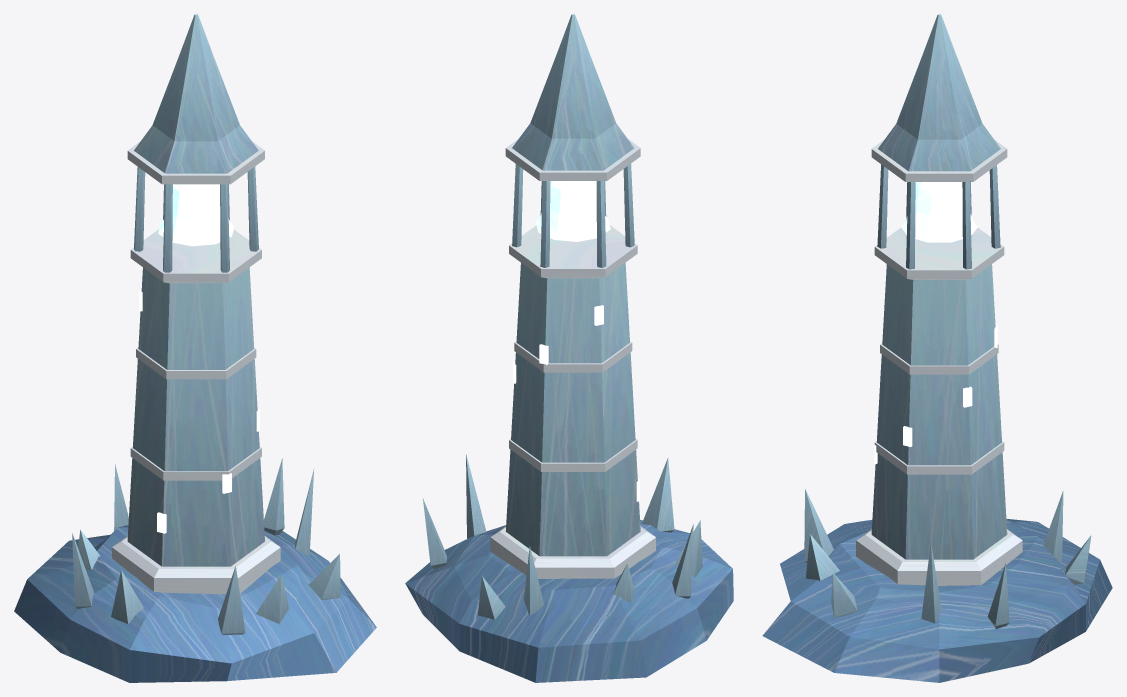
The model's file is AT_GlacierBell.fbx.
3 views of the same model, side by side, from view 1: azimuth 30°, elevation 25°; view 2: azimuth 150°, elevation 25°; view 3: azimuth 270°, elevation 25° (orthographic).
Parts seen in each view (by area): view 1: Shaft, IceBase, Spire, Plinth, BelfryFloor, Bell, BelfryRoofRim, FrostBand0, FrostBand1, IceSpike2, IceSpike1, IceSpike6 (+9 smaller); view 2: Shaft, IceBase, Spire, Plinth, BelfryFloor, Bell, BelfryRoofRim, FrostBand0, IceSpike2, FrostBand1, IceSpike5, IceSpike0 (+8 smaller); view 3: Shaft, IceBase, Spire, Plinth, BelfryFloor, Bell, BelfryRoofRim, FrostBand0, FrostBand1, IceSpike2, IceSpike5, IceSpike3 (+8 smaller).
Part boxes in pixels (box(x1,y1,x2,y2)): Shaft: box(127, 267, 264, 566); IceBase: box(14, 525, 376, 682); Spire: box(134, 14, 258, 173); Plinth: box(112, 536, 280, 594); BelfryFloor: box(130, 229, 261, 283); Bell: box(158, 184, 234, 246); BelfryRoofRim: box(127, 141, 264, 184); FrostBand0: box(130, 446, 261, 480); FrostBand1: box(136, 347, 256, 379); IceSpike2: box(218, 566, 245, 634); IceSpike1: box(111, 570, 143, 623); IceSpike6: box(264, 458, 284, 535); Shaft: box(506, 263, 640, 556); IceBase: box(405, 520, 733, 682); Spire: box(512, 14, 634, 170); Plinth: box(490, 526, 655, 578); BelfryFloor: box(509, 225, 637, 278); Bell: box(536, 181, 610, 241); BelfryRoofRim: box(505, 139, 640, 180); FrostBand0: box(509, 438, 637, 471); IceSpike2: box(642, 457, 674, 532); FrostBand1: box(514, 341, 632, 372); IceSpike5: box(466, 454, 486, 538); IceSpike0: box(672, 524, 693, 598); Shaft: box(871, 264, 1007, 559); IceBase: box(762, 518, 1112, 682); Spire: box(878, 14, 1000, 171); Plinth: box(856, 529, 1022, 585); BelfryFloor: box(874, 227, 1004, 279); Bell: box(901, 182, 977, 242); BelfryRoofRim: box(871, 139, 1007, 181); FrostBand0: box(874, 441, 1004, 474); FrostBand1: box(880, 343, 998, 374); IceSpike2: box(804, 489, 833, 562); IceSpike5: box(921, 542, 941, 623); IceSpike3: box(806, 534, 839, 580).
Size of the model in its own units: 21 by 42.7 by 22.72.
1 material, 1 textured.
